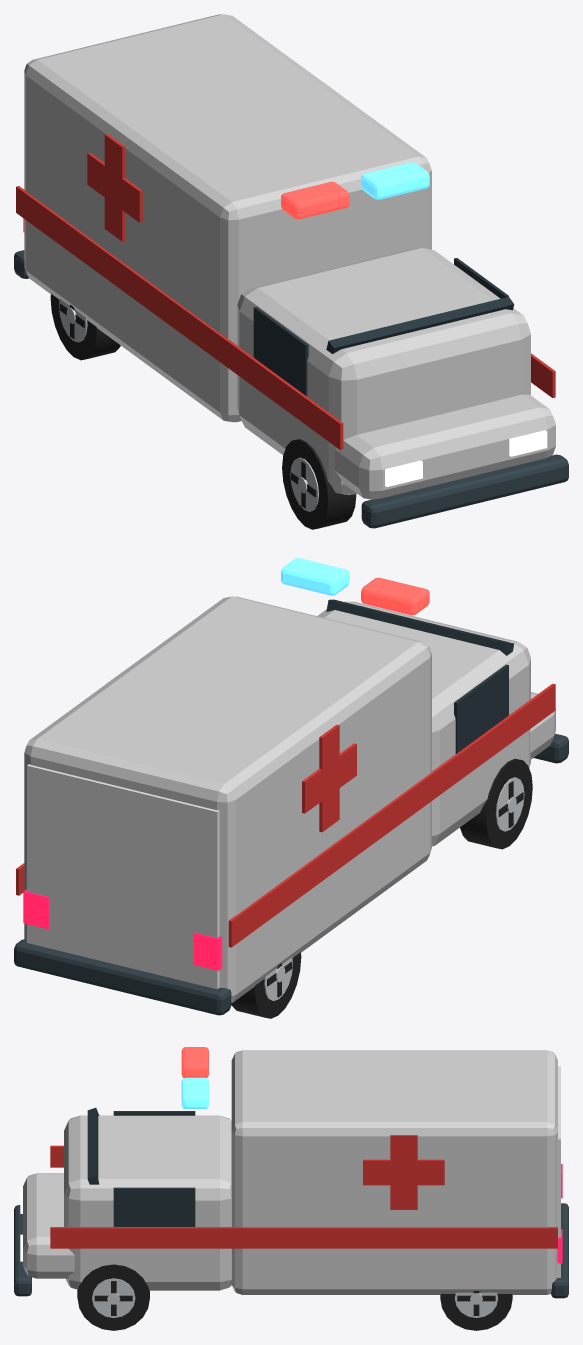
File: foot_ambulance.glb
3 views of the same model, one above another, from view 1: azimuth 30°, elevation 25°; view 2: azimuth 150°, elevation 25°; view 3: azimuth 270°, elevation 25° (orthographic). The views are drawn at different scales.
Parts seen in each view (by area): view 1: FootAmbulance_body, Wheel_FR, Wheel_RR; view 2: FootAmbulance_body, Wheel_FR, Wheel_RR; view 3: FootAmbulance_body, Wheel_FL, Wheel_RL.
Part boxes in pixels (left/top/right/bottom): FootAmbulance_body: left=14, top=14, right=568, bottom=528; Wheel_FR: left=282, top=439, right=356, bottom=529; Wheel_RR: left=50, top=294, right=120, bottom=360; FootAmbulance_body: left=14, top=558, right=568, bottom=1015; Wheel_FR: left=460, top=758, right=532, bottom=849; Wheel_RR: left=231, top=952, right=301, bottom=1018; FootAmbulance_body: left=14, top=1047, right=568, bottom=1298; Wheel_FL: left=77, top=1264, right=149, bottom=1330; Wheel_RL: left=440, top=1291, right=512, bottom=1330.
Size of the model in its own units: 2.17 by 2.68 by 6.12.
